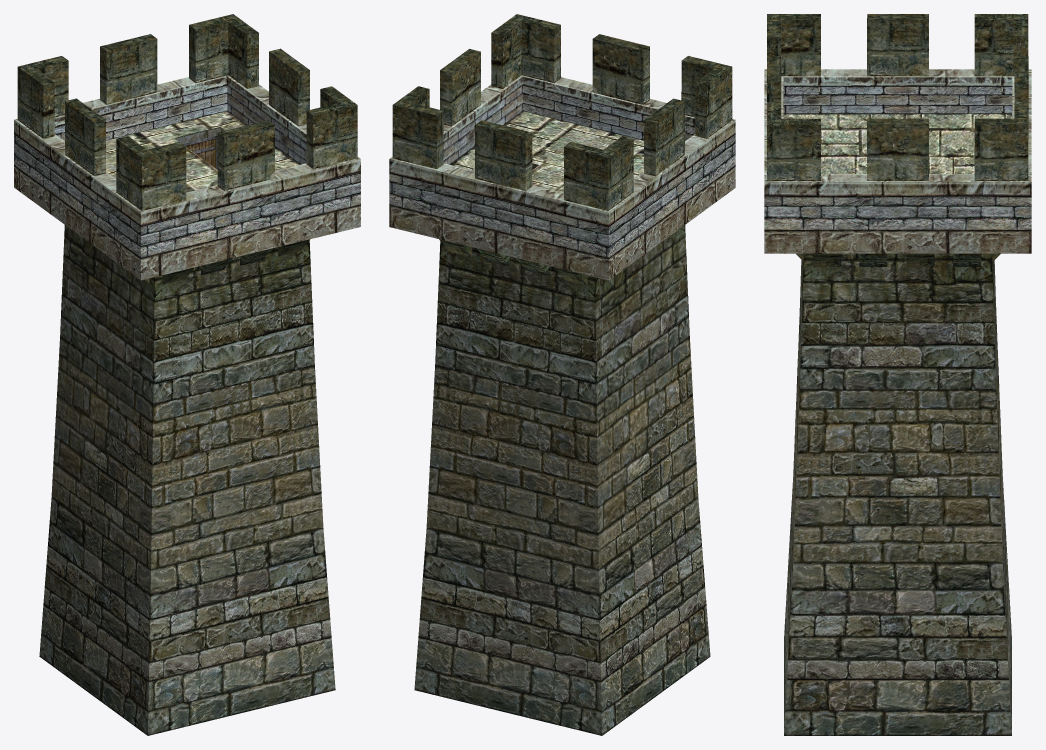
3 views of the same model, side by side, from view 1: azimuth 30°, elevation 25°; view 2: azimuth 150°, elevation 25°; view 3: azimuth 270°, elevation 25° (orthographic). The views are drawn at different scales.
Visible parts, largest first — view 1: cc37; view 2: cc37; view 3: cc37.
Boxes of the visible parts, x1,y1,x2,y2 form: cc37: (14, 14, 360, 735); cc37: (389, 14, 735, 735); cc37: (764, 14, 1031, 735).
Size of the model in its own units: 5.71 by 14.6 by 5.71.
Materials: 12 (12 with a texture image).
